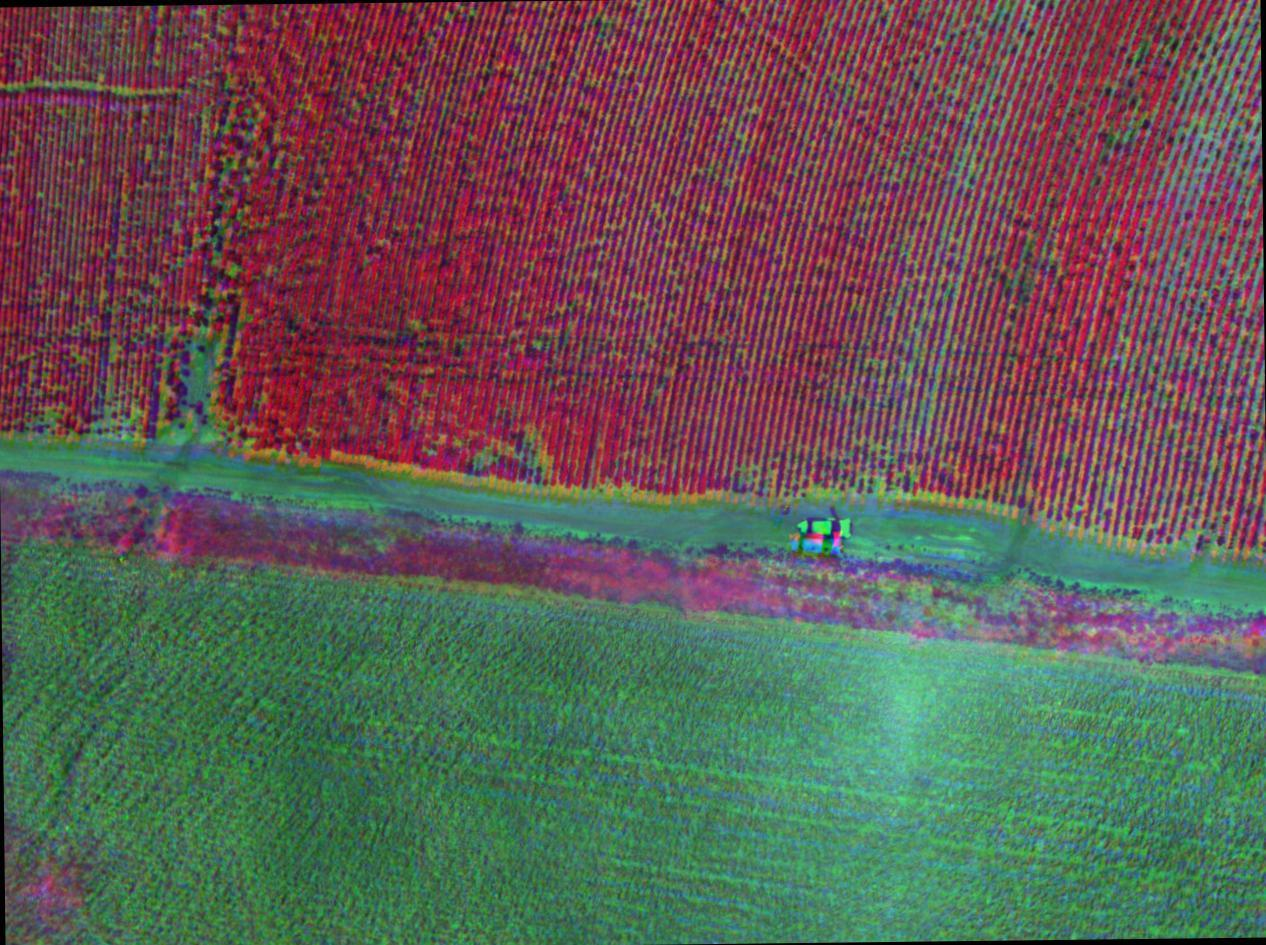dc: (1182, 35, 1256, 142), (2, 68, 187, 110), (177, 319, 222, 429), (879, 339, 927, 406), (97, 397, 147, 439)
